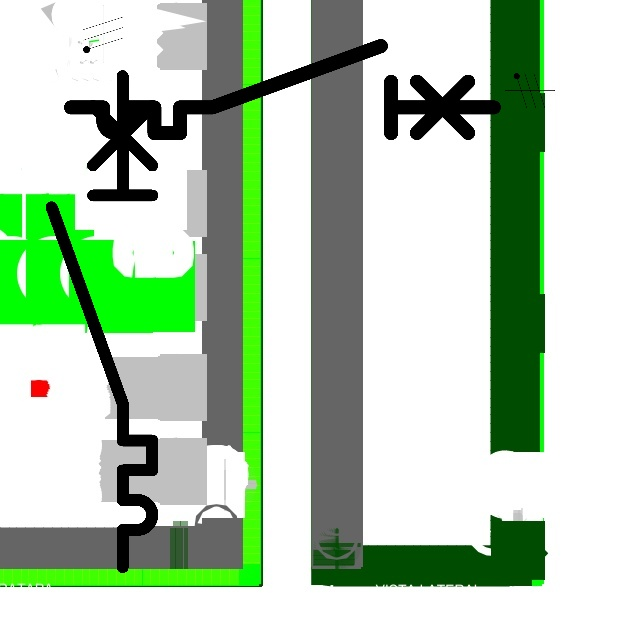interruptor_termomagnetico: (39, 63, 165, 580), (60, 35, 505, 144)
